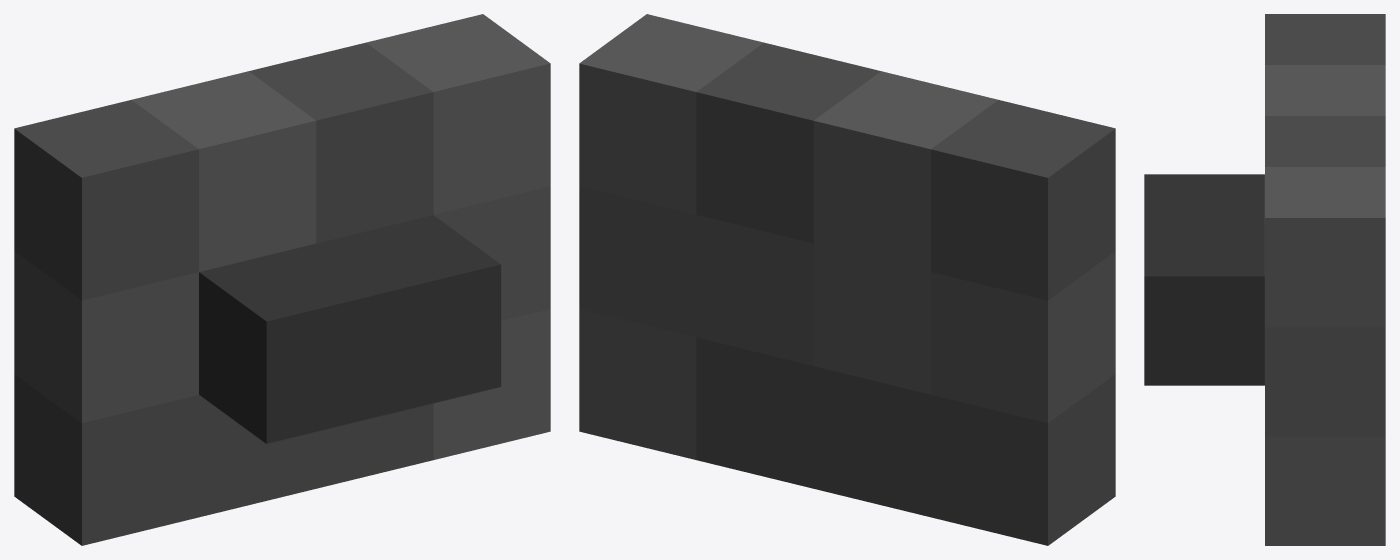
The model's file is Button_Wall_Big_Gray.obj.
3 renders of one model, left to right at view 1: azimuth 30°, elevation 25°; view 2: azimuth 150°, elevation 25°; view 3: azimuth 270°, elevation 25°, orthographic. The views are drawn at different scales.
Parts seen in each view (by area): view 1: Button_Wall_Big_Gray_Button_Wall_Big_Gray.003; view 2: Button_Wall_Big_Gray_Button_Wall_Big_Gray.003; view 3: Button_Wall_Big_Gray_Button_Wall_Big_Gray.003.
Part boxes in pixels (box(x1,y1,x2,y2)): Button_Wall_Big_Gray_Button_Wall_Big_Gray.003: box(14, 14, 550, 545); Button_Wall_Big_Gray_Button_Wall_Big_Gray.003: box(579, 14, 1115, 545); Button_Wall_Big_Gray_Button_Wall_Big_Gray.003: box(1144, 14, 1385, 545).
Bounding box in the file's own units: 0.4 × 0.3 × 0.2.
1 material, 1 textured.
